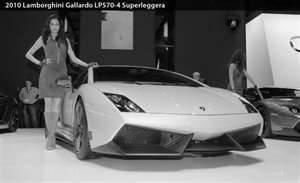car: (45, 63, 269, 163)
